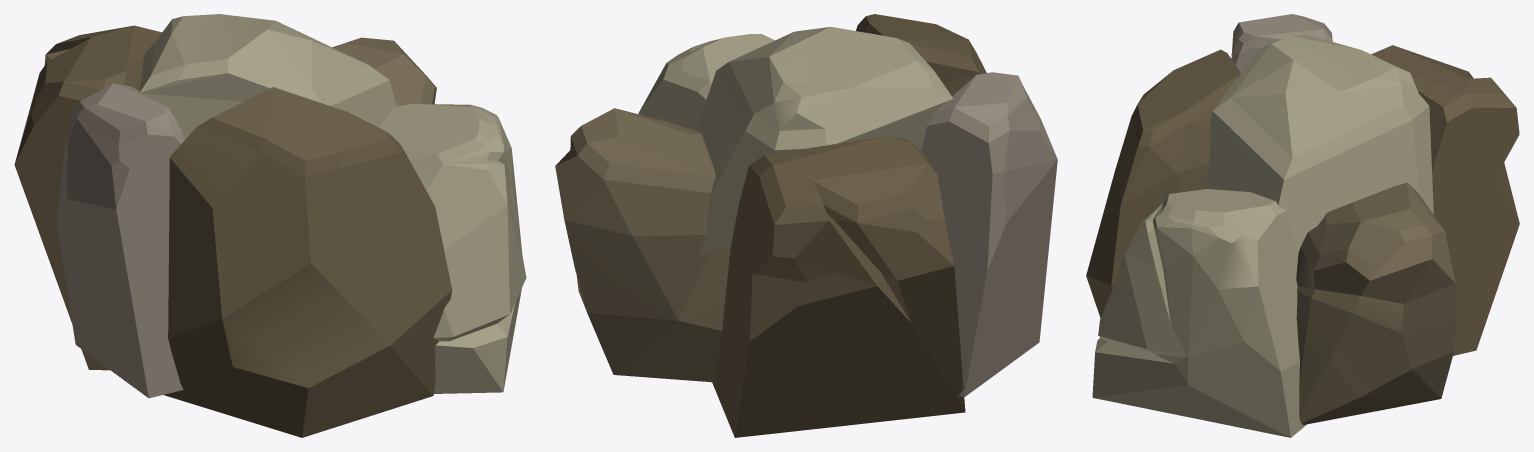
Rendered from Rock_04.fbx.
3 renders of one model, left to right at view 1: azimuth 30°, elevation 25°; view 2: azimuth 150°, elevation 25°; view 3: azimuth 270°, elevation 25°, orthographic. The views are drawn at different scales.
Parts seen in each view (by area): view 1: Rock_04; view 2: Rock_04; view 3: Rock_04.
Boxes of the visible parts, x1=… form: Rock_04: x1=14, y1=14, x2=526, y2=437; Rock_04: x1=555, y1=14, x2=1057, y2=437; Rock_04: x1=1086, y1=14, x2=1519, y2=437.
Bounding box in the file's own units: 327 × 252 × 337.
